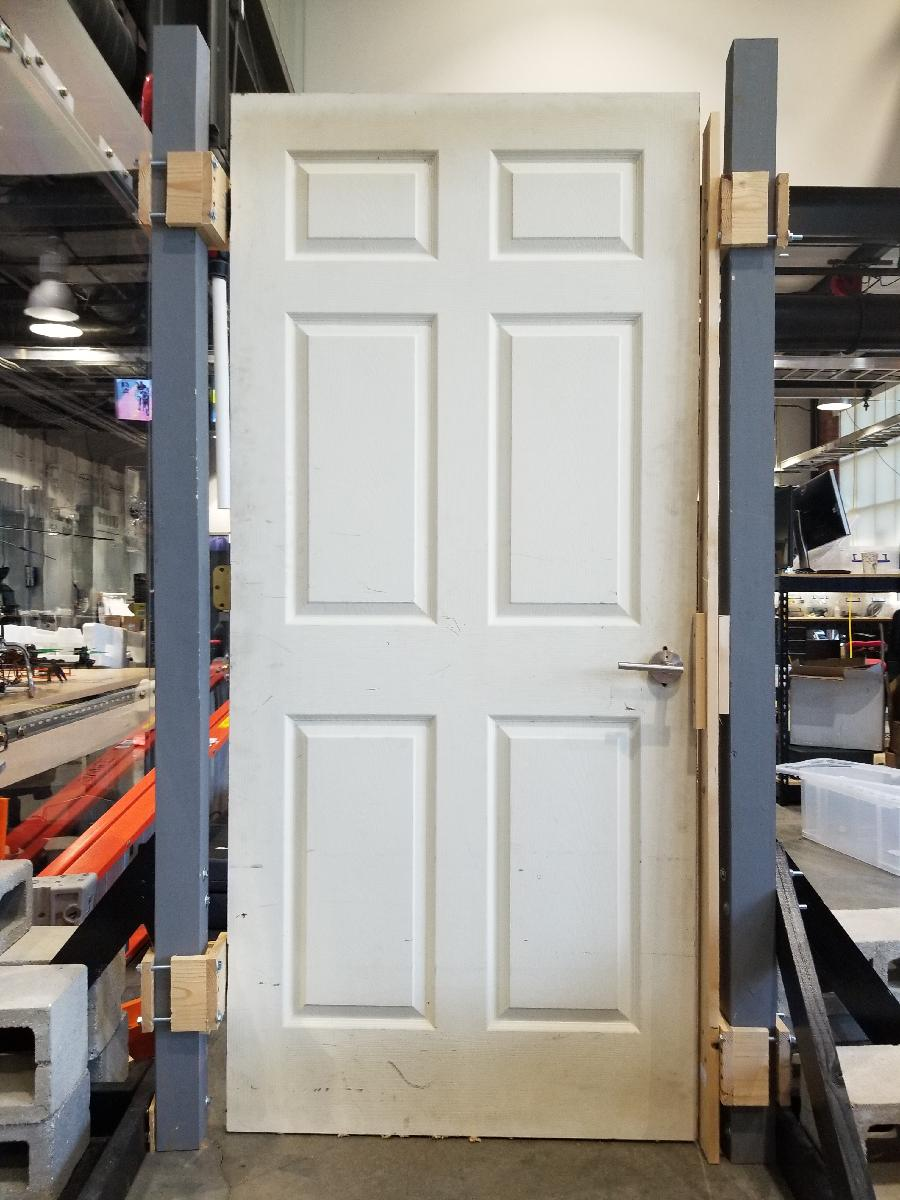door: (221, 89, 714, 1152)
doorHandle: (613, 649, 689, 694)
